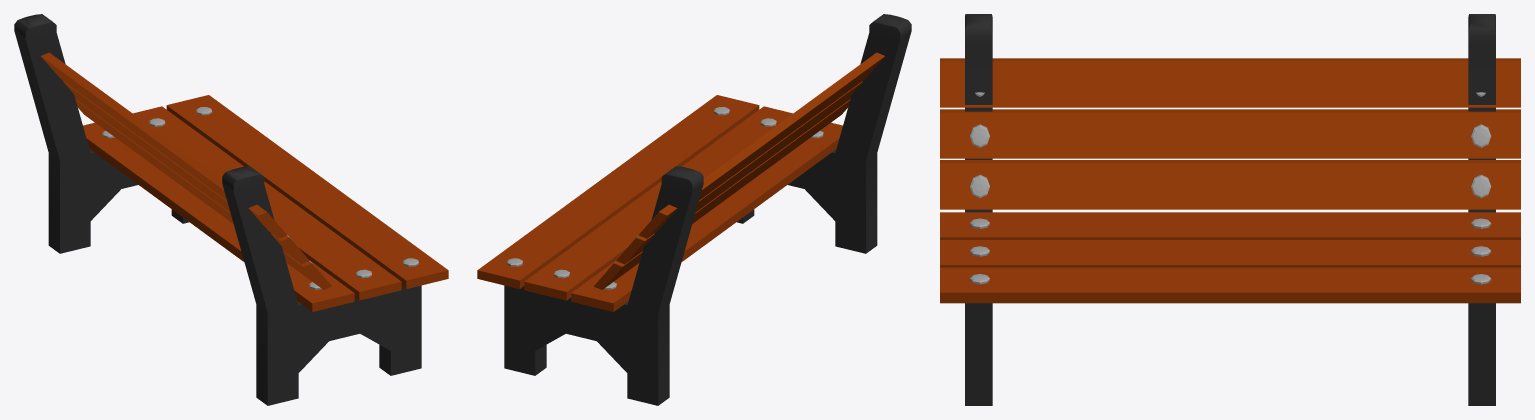
File: Bench02.fbx
3 views of the same model, side by side, from view 1: azimuth 30°, elevation 25°; view 2: azimuth 150°, elevation 25°; view 3: azimuth 270°, elevation 25° (orthographic). The views are drawn at different scales.
Parts seen in each view (by area): view 1: WoodBench, Plane.002, Plane.003; view 2: WoodBench, Plane.002, Plane.003; view 3: Plane.003, Plane.002, WoodBench.
Part boxes in pixels (box(x1,y1,x2,y2)): WoodBench: box(14, 14, 421, 405); Plane.002: box(83, 95, 448, 311); Plane.003: box(41, 52, 331, 289); WoodBench: box(504, 14, 911, 405); Plane.002: box(477, 95, 842, 311); Plane.003: box(594, 52, 884, 289); Plane.003: box(940, 58, 1520, 209); Plane.002: box(940, 212, 1520, 303); WoodBench: box(965, 14, 1495, 405).
Size of the model in its own units: 89.48 by 98.07 by 181.
